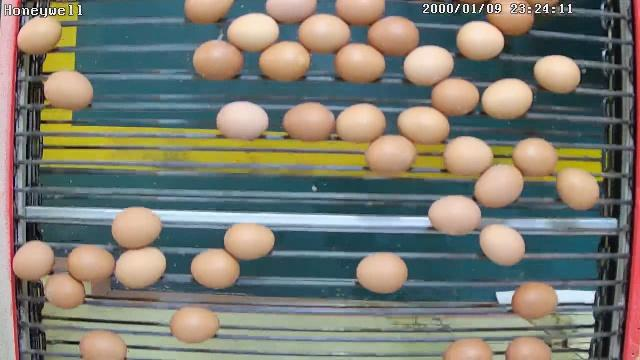egg: (364, 12, 422, 58), (214, 99, 270, 143), (112, 246, 168, 290), (473, 162, 525, 209), (258, 38, 311, 84), (363, 132, 418, 176), (110, 205, 165, 249), (296, 11, 352, 54), (403, 43, 455, 89), (481, 75, 534, 120), (281, 100, 335, 144), (333, 102, 387, 146), (354, 251, 408, 295), (426, 194, 482, 236), (226, 11, 280, 54), (42, 68, 94, 112), (192, 38, 244, 82), (442, 134, 494, 178), (188, 248, 241, 291), (333, 41, 385, 84), (454, 20, 506, 62), (398, 105, 450, 147), (478, 222, 526, 267), (512, 136, 560, 180), (430, 76, 480, 118), (66, 243, 116, 285), (168, 305, 220, 345), (223, 221, 276, 260), (16, 14, 64, 57), (532, 54, 582, 95), (558, 166, 602, 212), (510, 280, 560, 320), (10, 238, 55, 282), (42, 270, 88, 310), (77, 329, 129, 360)
